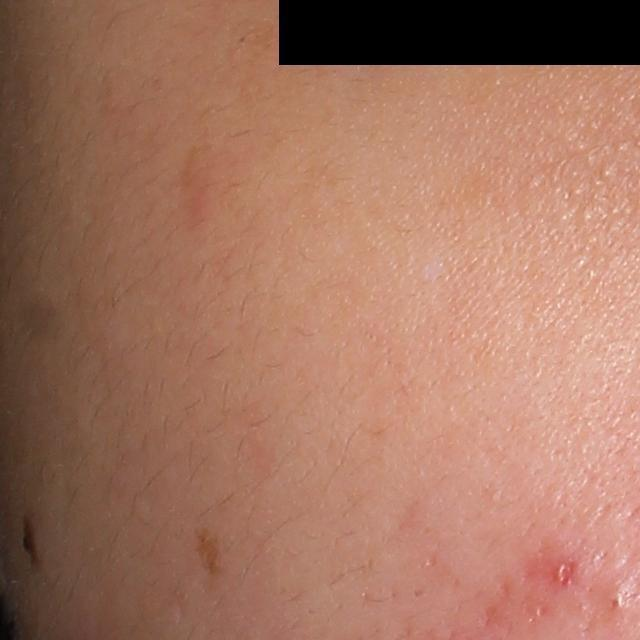nevus: (189, 522, 230, 585), (20, 510, 44, 570)
papule: (547, 555, 580, 596)
